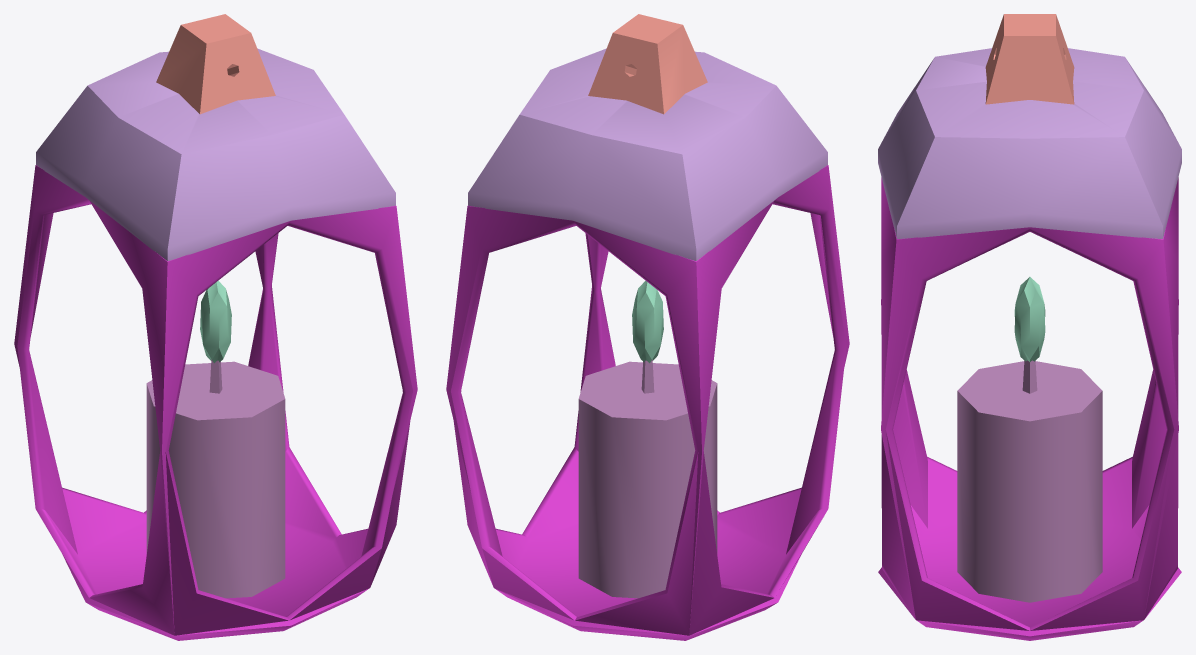
3 renders of one model, left to right at view 1: azimuth 30°, elevation 25°; view 2: azimuth 150°, elevation 25°; view 3: azimuth 270°, elevation 25°, orthographic.
Visible parts, largest first — view 1: split_parent_3, Lantern_0.226, Lantern_0.255, Lantern_0.240, Lantern_0.026; view 2: split_parent_3, Lantern_0.226, Lantern_0.255, Lantern_0.240, Lantern_0.026; view 3: split_parent_3, Lantern_0.226, Lantern_0.255, Lantern_0.240, Lantern_0.026.
Part boxes in pixels (box(x1,y1,x2,y2)): split_parent_3: box(14, 165, 417, 640); Lantern_0.226: box(36, 48, 395, 260); Lantern_0.255: box(146, 359, 285, 598); Lantern_0.240: box(156, 14, 275, 114); Lantern_0.026: box(200, 280, 231, 363); split_parent_3: box(446, 165, 849, 640); Lantern_0.226: box(468, 48, 827, 260); Lantern_0.255: box(578, 359, 717, 598); Lantern_0.240: box(588, 14, 707, 114); Lantern_0.026: box(632, 280, 663, 363); split_parent_3: box(878, 177, 1181, 640); Lantern_0.226: box(878, 48, 1181, 238); Lantern_0.255: box(957, 360, 1102, 602); Lantern_0.240: box(985, 14, 1074, 104); Lantern_0.026: box(1014, 277, 1045, 361).
Size of the model in its own units: 0.4936 by 1 by 0.4936.
